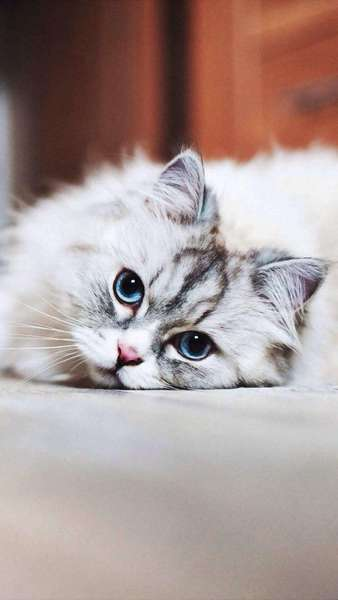cat: (37, 138, 326, 401)
